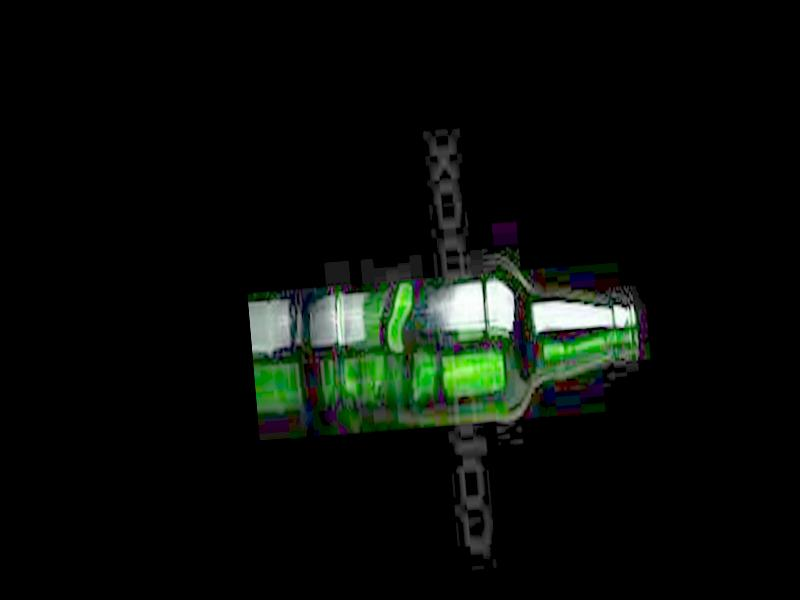Beer: (332, 267, 643, 436)
